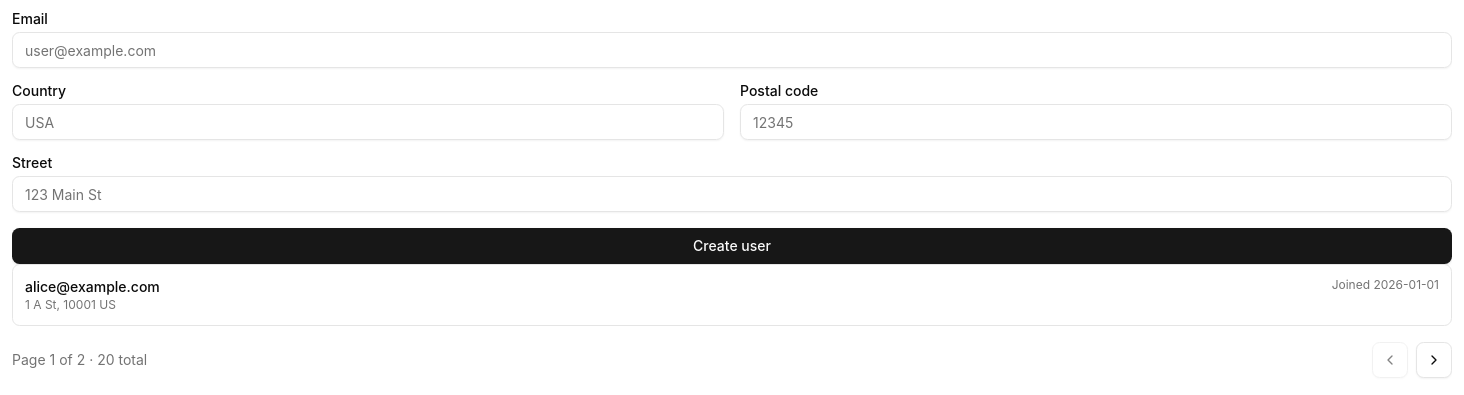
Test case: UserList — integration tier › refetches with page=2 when 'Next page' is clicked
Check: the field with test id "create-user-email" is shown, box [12, 32, 1452, 68]
Check: the text "alice@example.com" is shown, box [25, 278, 160, 295]
Click the 2nd button named "next page". click: (1434, 360)
box: [1416, 342, 1452, 378]
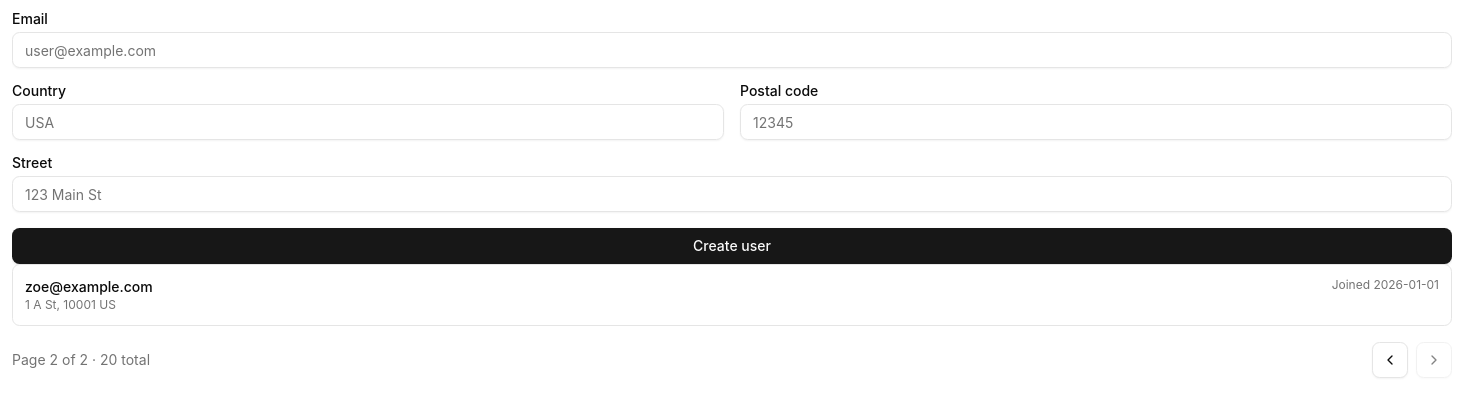
Check: the text "zoe@example.com" is shown, box [25, 278, 153, 295]
Check: the text "Page 2 of 2 · 20 total" is shown, box [12, 350, 150, 370]
